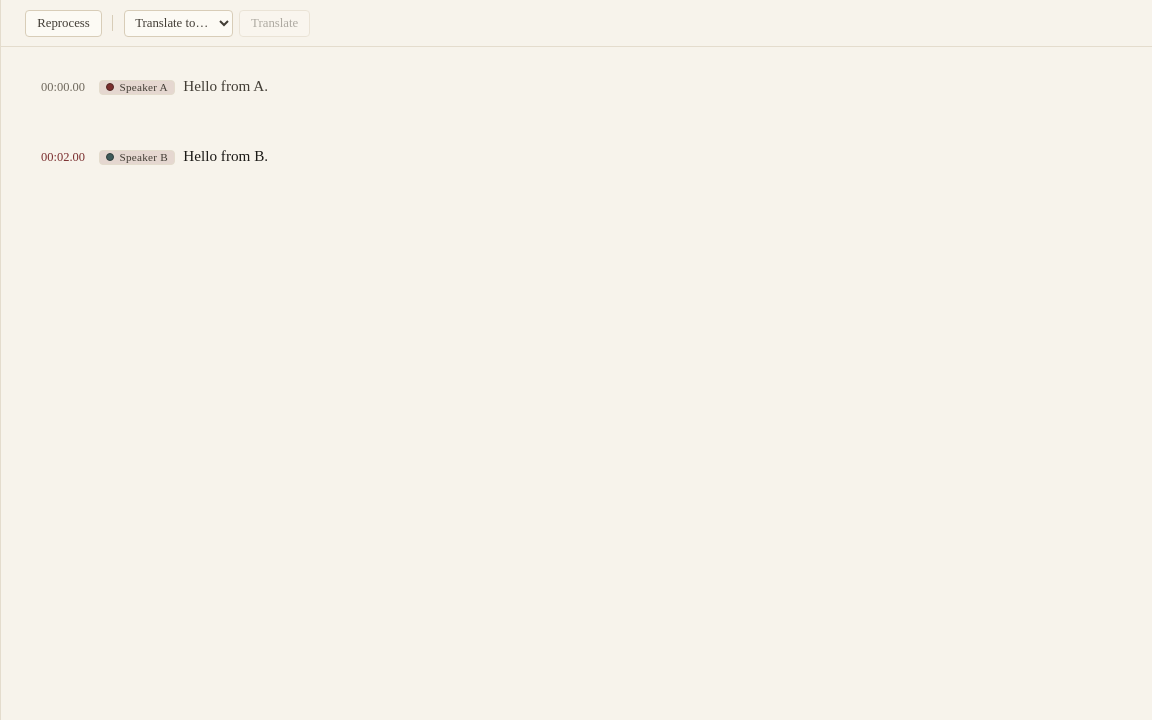
it: SpeakerChip rename (issue #0001) › cancels the rename and restores the chip on Escape
The width and height of the screenshot is (1152, 720).
Click the button "Speaker A": (137, 87) [99,80,175,95]
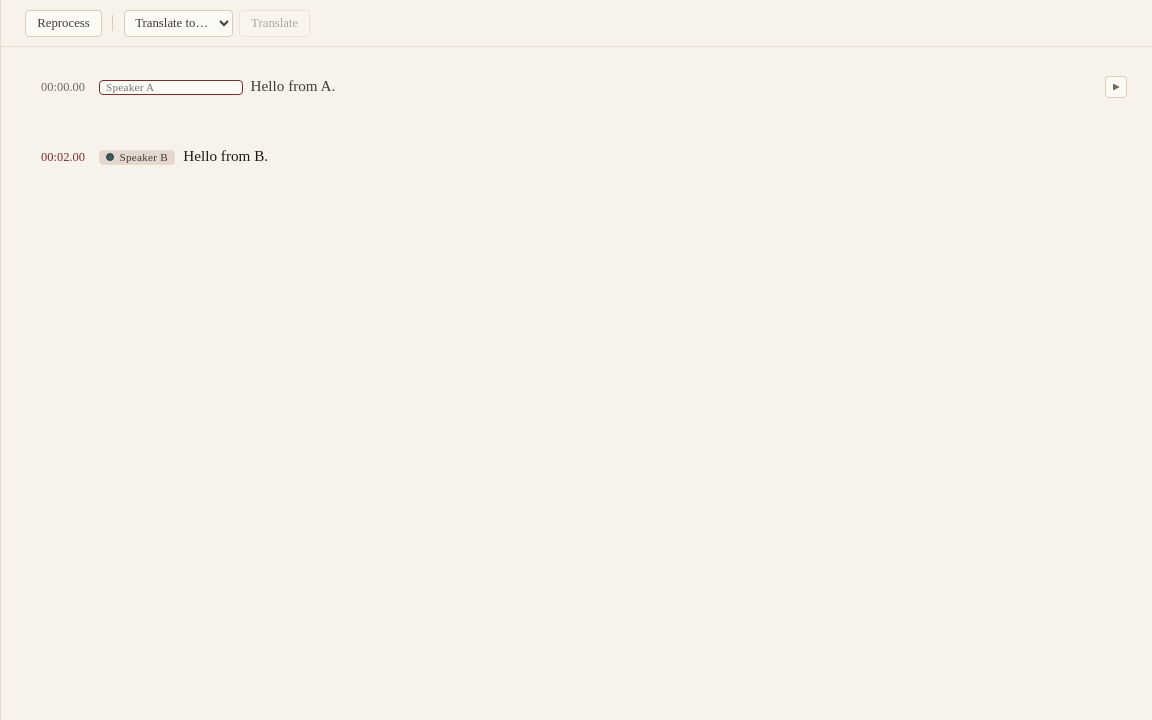
In the field: (171, 87) [99,80,243,95], type "Ignored name"
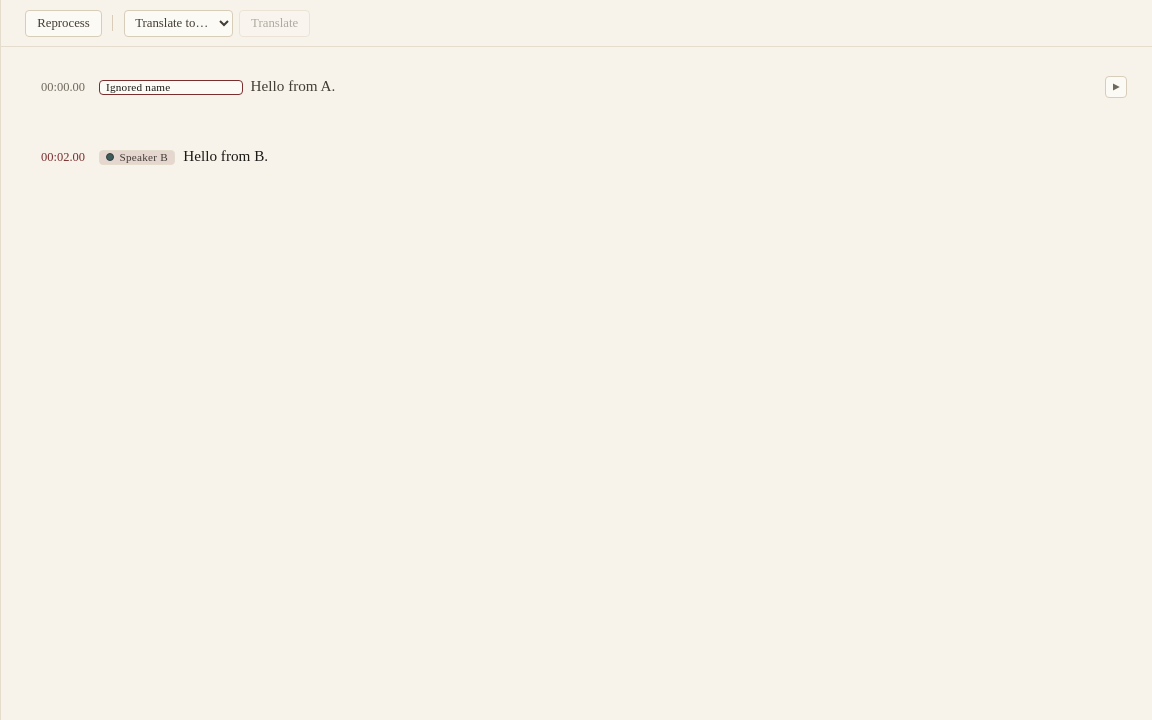
Press Escape in the field, box [99,80,243,95]
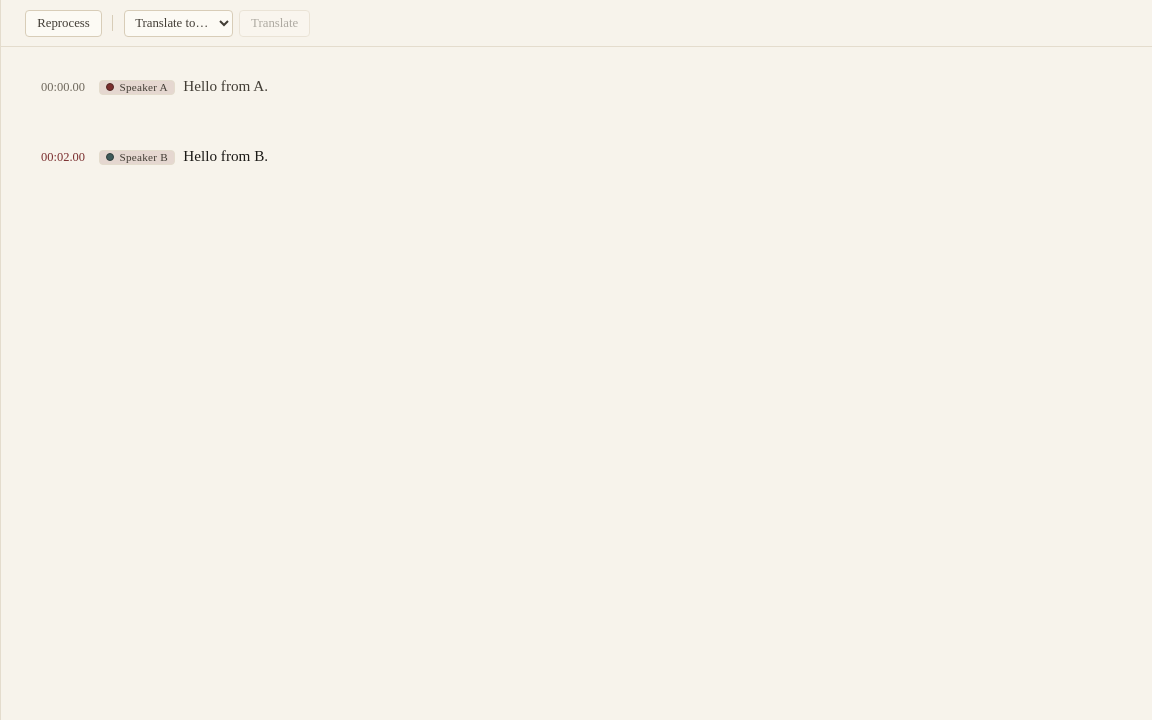
Expected: the field is gone
Expected: the button "Speaker A" is shown, [99,80,175,95]
